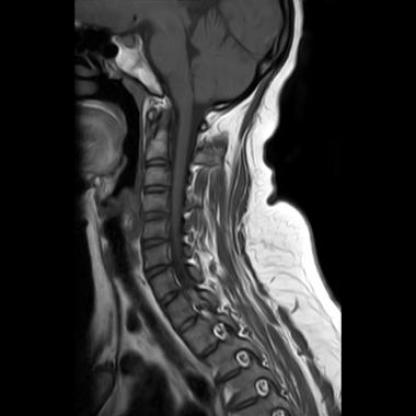Degenerative Disc Diseaserotation: (143, 235, 170, 251), (142, 210, 170, 222)
Disc Bulgerotation: (143, 235, 170, 251), (143, 182, 169, 197), (142, 209, 169, 222), (143, 157, 172, 169)
Osteophytesrotation: (143, 235, 170, 251)
